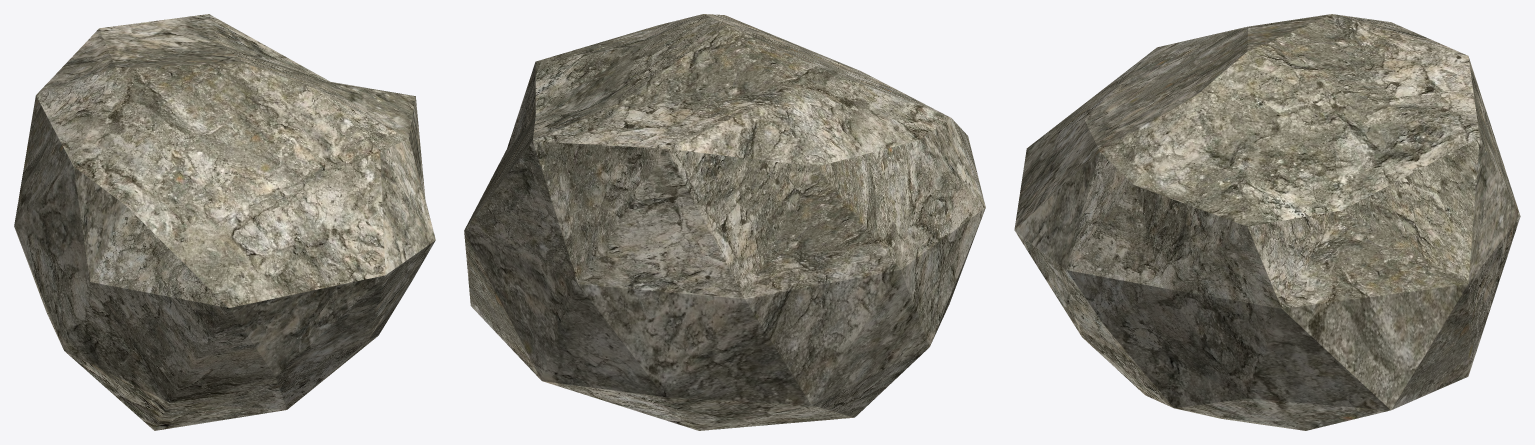
File: Stone.fbx
The picture shows the model from 3 angles, left to right: view 1: azimuth 30°, elevation 25°; view 2: azimuth 150°, elevation 25°; view 3: azimuth 270°, elevation 25°; orthographic projection. The views are drawn at different scales.
Parts seen in each view (by area): view 1: Ore; view 2: Ore; view 3: Ore.
Part boxes in pixels (left/top/right/bottom): Ore: left=14, top=14, right=435, bottom=430; Ore: left=464, top=14, right=985, bottom=430; Ore: left=1014, top=14, right=1520, bottom=430.
Bounding box in the file's own units: 175 × 150 × 185.
Materials: 1 (1 with a texture image).
